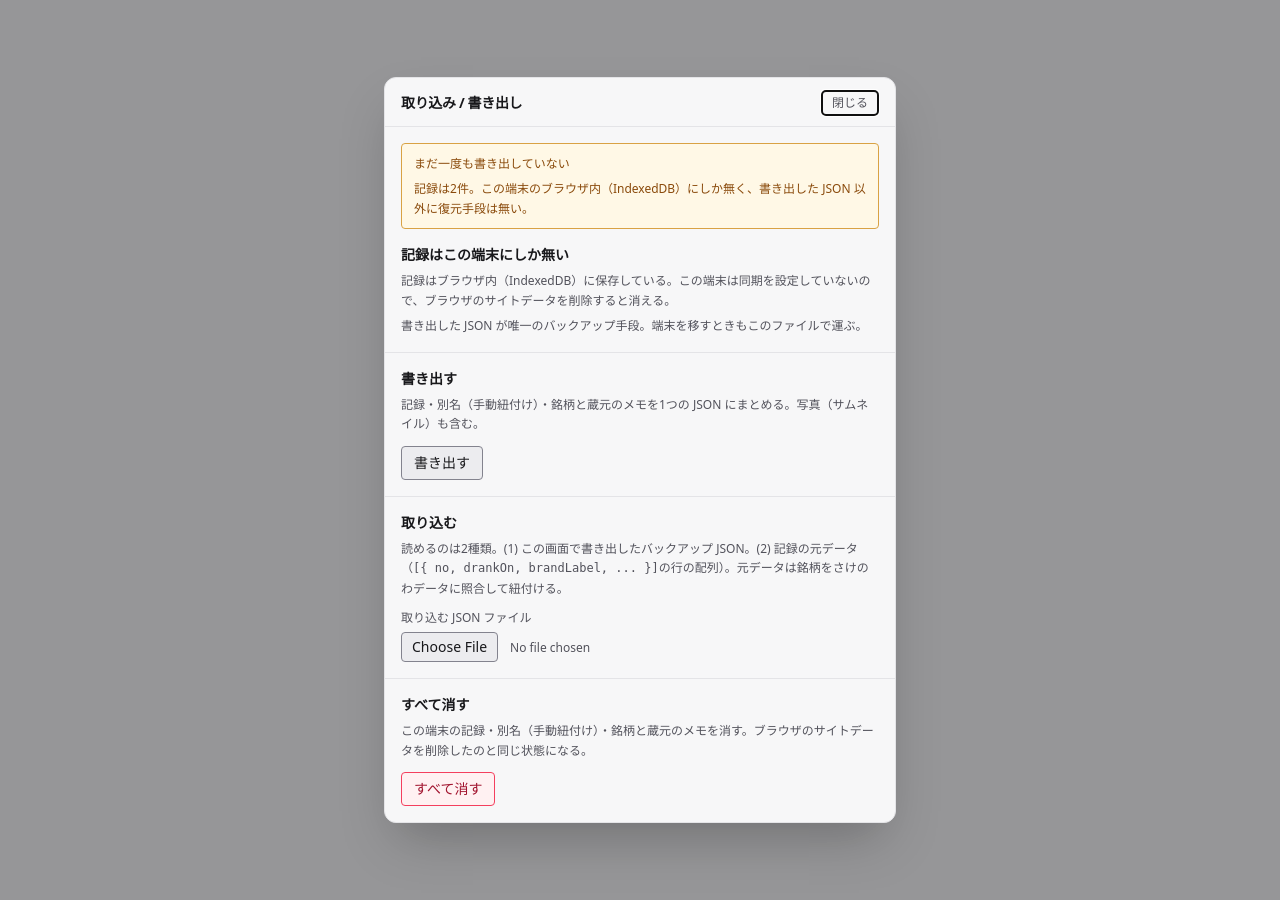
Test: ImportExportPanel との配線 › 督促は書き出しで消える(記録があり一度も書き出していない → 書き出した後は出ない)
Expected: the text "まだ一度も書き出していない" is shown, [414, 155, 570, 172]
Click the button "書き出す": [442, 463] box [401, 446, 483, 480]
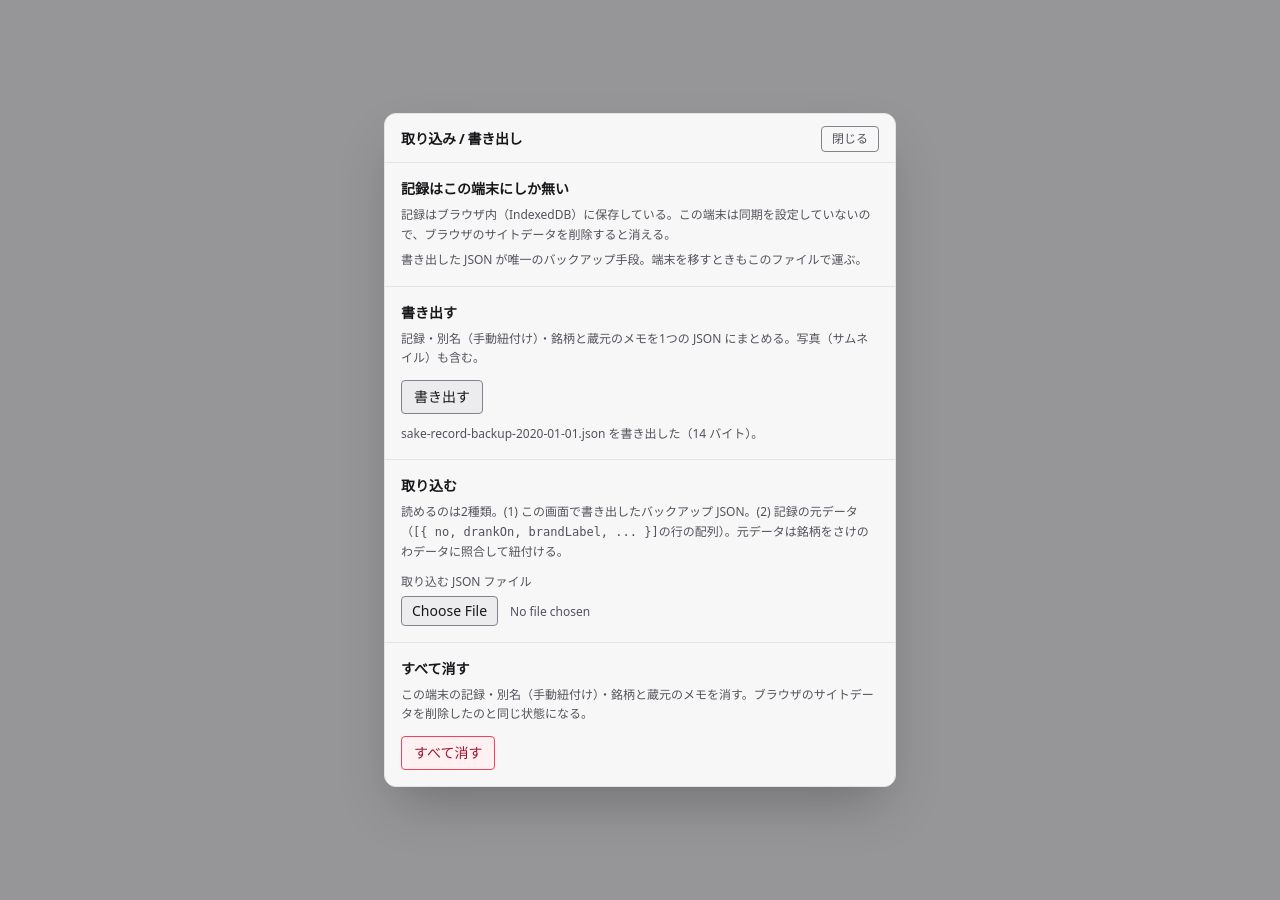
Expected: the text "sake-record-backup-2020-01-01.json を書き出した（14 バイト）。" is shown, [401, 425, 763, 442]
Expected: the text "まだ一度も書き出していない" is gone
Expected: the message "まだ一度も書き出していない 記録は2件。この端末のブラウザ内（IndexedDB）にしか無く、書き出した JSON 以外に復元手段は無い。" is gone
